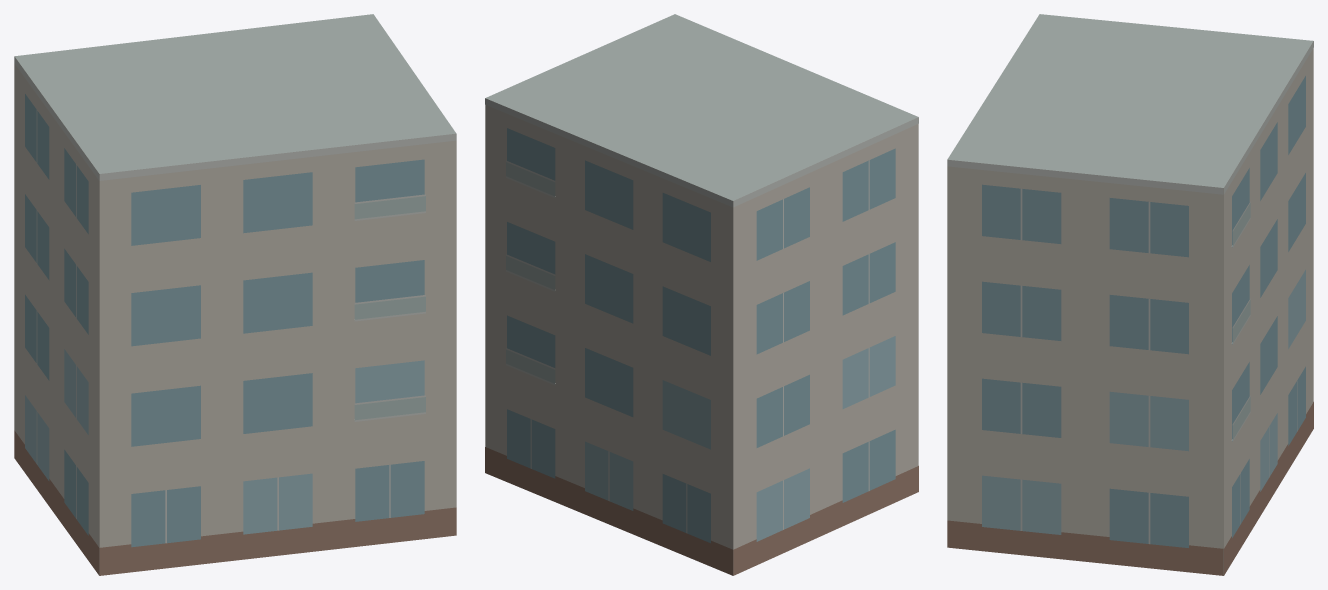
The model's file is survey-upis-32878440.glb.
3 renders of one model, left to right at view 1: azimuth 30°, elevation 25°; view 2: azimuth 150°, elevation 25°; view 3: azimuth 270°, elevation 25°, orthographic. The views are drawn at different scales.
Parts seen in each view (by area): view 1: survey-upis-32878440.tmp; view 2: survey-upis-32878440.tmp; view 3: survey-upis-32878440.tmp.
Part boxes in pixels (x1,y1,x2,y2): survey-upis-32878440.tmp: (14, 14, 456, 575); survey-upis-32878440.tmp: (485, 14, 918, 575); survey-upis-32878440.tmp: (947, 14, 1313, 575).
Size of the model in its own units: 13.58 by 14.1 by 12.09.
